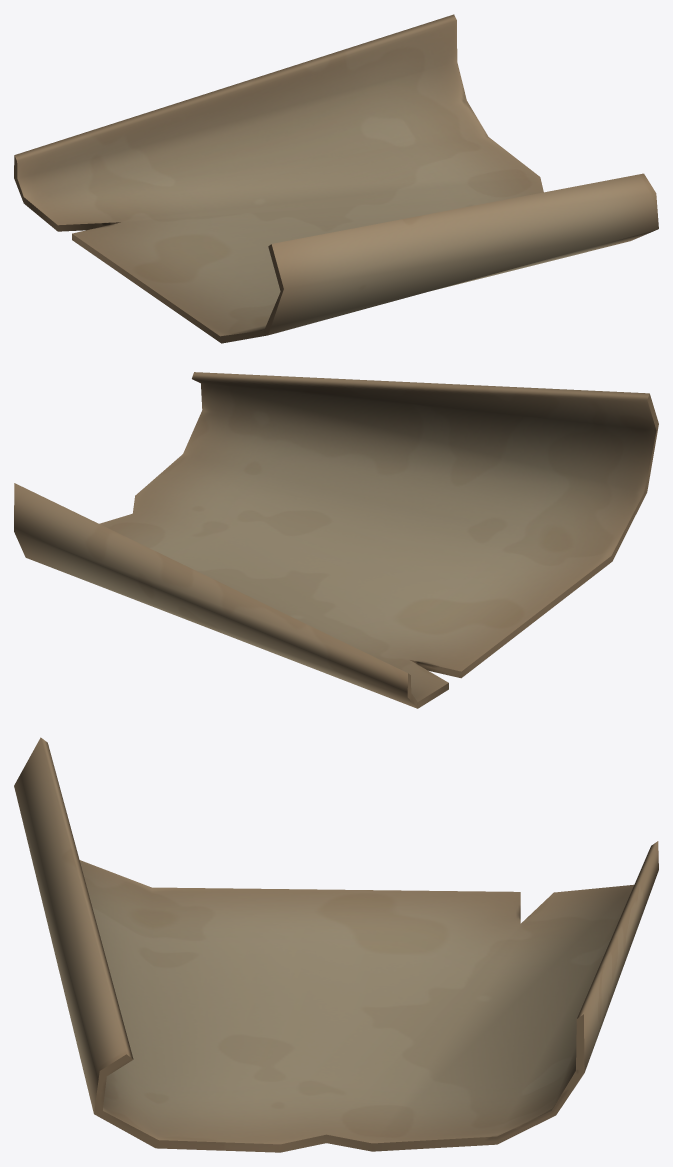
Rendered from Paper_D.fbx.
3 renders of one model, top to bottom at view 1: azimuth 30°, elevation 25°; view 2: azimuth 150°, elevation 25°; view 3: azimuth 270°, elevation 25°, orthographic. The views are drawn at different scales.
Parts seen in each view (by area): view 1: U_Paper_D; view 2: U_Paper_D; view 3: U_Paper_D.
Part boxes in pixels (x1,y1,x2,y2): U_Paper_D: (14, 14, 658, 343); U_Paper_D: (14, 372, 658, 708); U_Paper_D: (14, 737, 658, 1152).
Size of the model in its own units: 66.27 by 20.29 by 70.02.
1 material, 1 textured.
